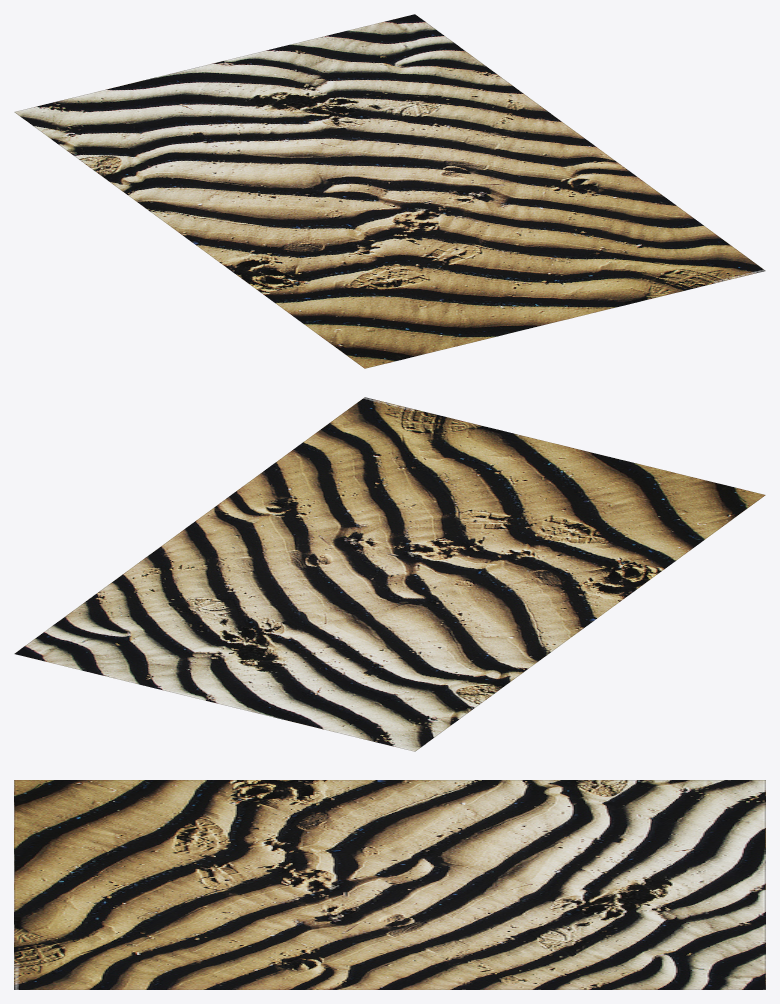
The picture shows the model from 3 angles, top to bottom: view 1: azimuth 30°, elevation 25°; view 2: azimuth 150°, elevation 25°; view 3: azimuth 270°, elevation 25°; orthographic projection. The views are drawn at different scales.
Parts seen in each view (by area): view 1: geo_terrain05; view 2: geo_terrain05; view 3: geo_terrain05.
Part boxes in pixels (x1,y1,x2,y2): geo_terrain05: (14, 14, 765, 368); geo_terrain05: (14, 397, 765, 751); geo_terrain05: (14, 780, 765, 989).
Size of the model in its own units: 1980 by 3000 by 0.
